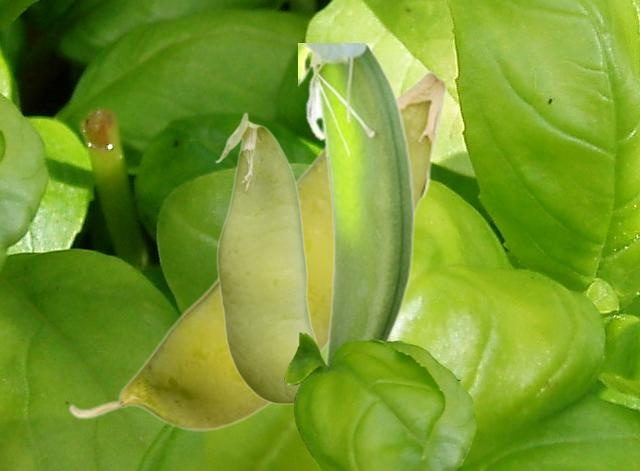pea: (68, 70, 447, 430), (298, 43, 417, 365), (214, 112, 318, 406)
